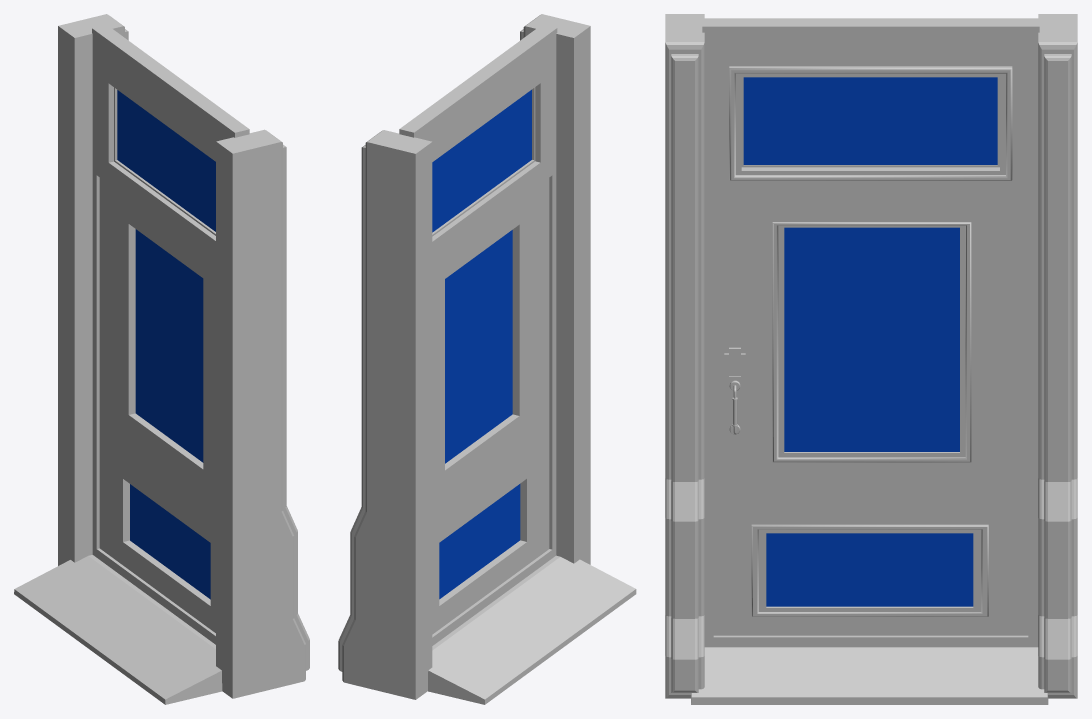
Rendered from Door.fbx.
3 renders of one model, left to right at view 1: azimuth 30°, elevation 25°; view 2: azimuth 150°, elevation 25°; view 3: azimuth 270°, elevation 25°, orthographic. The views are drawn at different scales.
Parts seen in each view (by area): view 1: Window.005, Window.006; view 2: Window.005, Window.006; view 3: Window.006, Window.005.
Boxes of the visible parts, x1,y1,x2,y2 form: Window.005: (14,14,309,704); Window.006: (92,24,249,644); Window.005: (338,14,636,704); Window.006: (399,24,557,645); Window.006: (702,18,1039,647); Window.005: (665,14,1077,704).
Size of the model in its own units: 0.7215 by 2.73 by 1.57.
